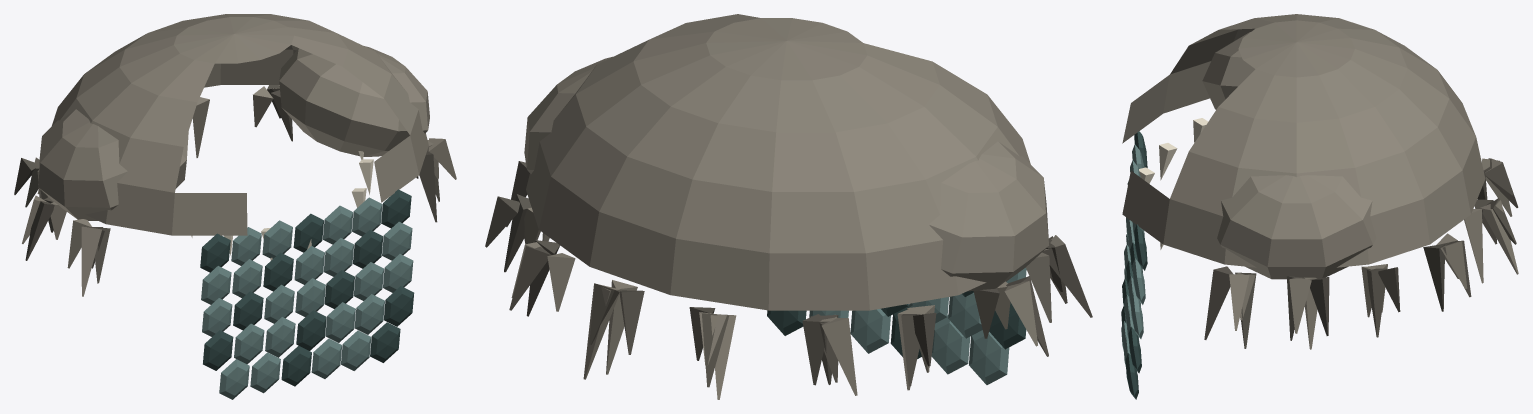
The model's file is saltreaver_chest.glb.
3 views of the same model, side by side, from view 1: azimuth 30°, elevation 25°; view 2: azimuth 150°, elevation 25°; view 3: azimuth 270°, elevation 25° (orthographic). The views are drawn at different scales.
Visible parts, largest first — view 1: saltreaver_chest; view 2: saltreaver_chest; view 3: saltreaver_chest.
Part boxes in pixels (<box>): saltreaver_chest: <box>14,14,456,399</box>; saltreaver_chest: <box>485,14,1092,399</box>; saltreaver_chest: <box>1121,14,1518,399</box>.
Bounding box in the file's own units: 1.32 × 0.9292 × 1.05.
